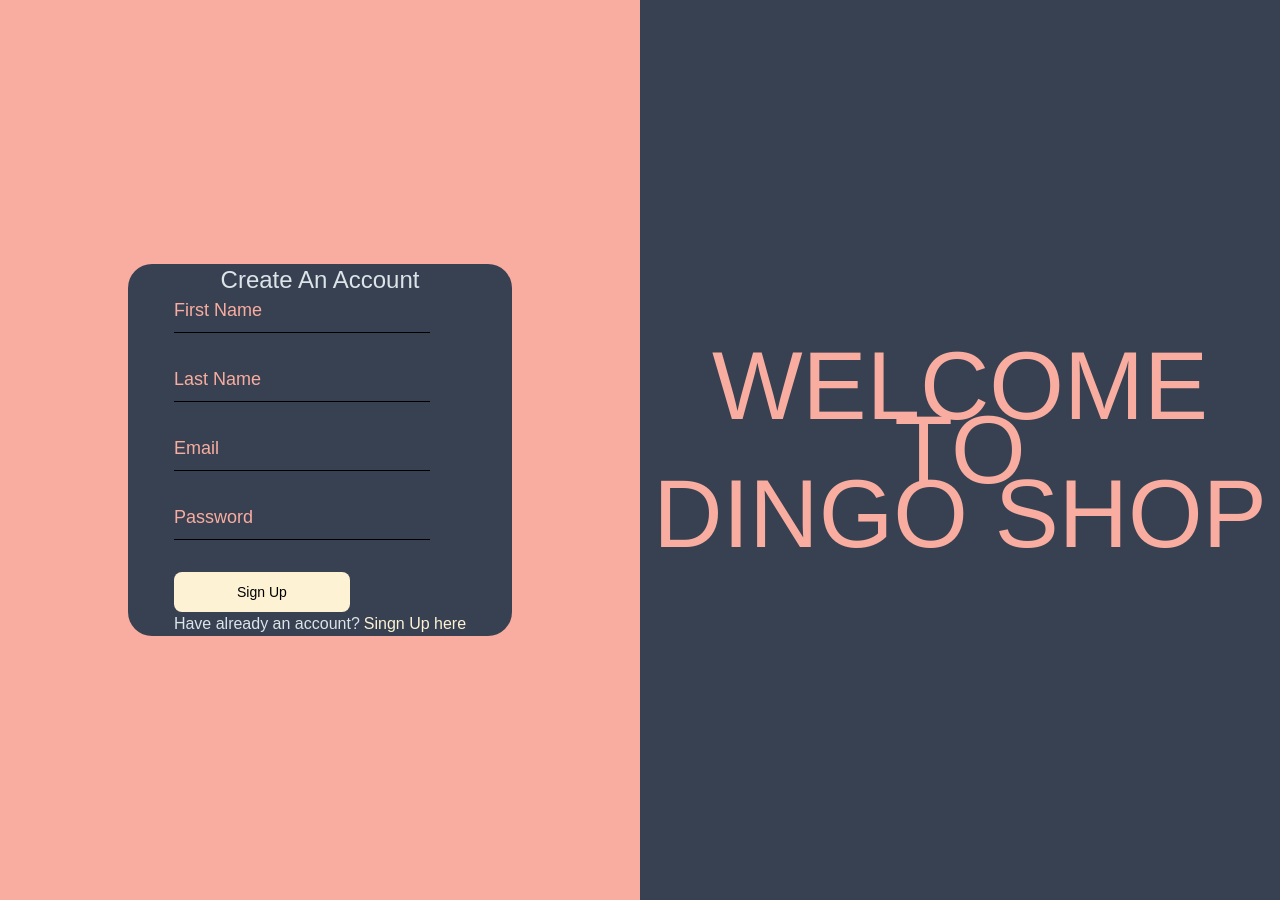
Test: testing functionality of sign up › invalid email address error message
Type "email" into the field with test id "email-input". click: [302, 454]
box: [174,438,430,471]
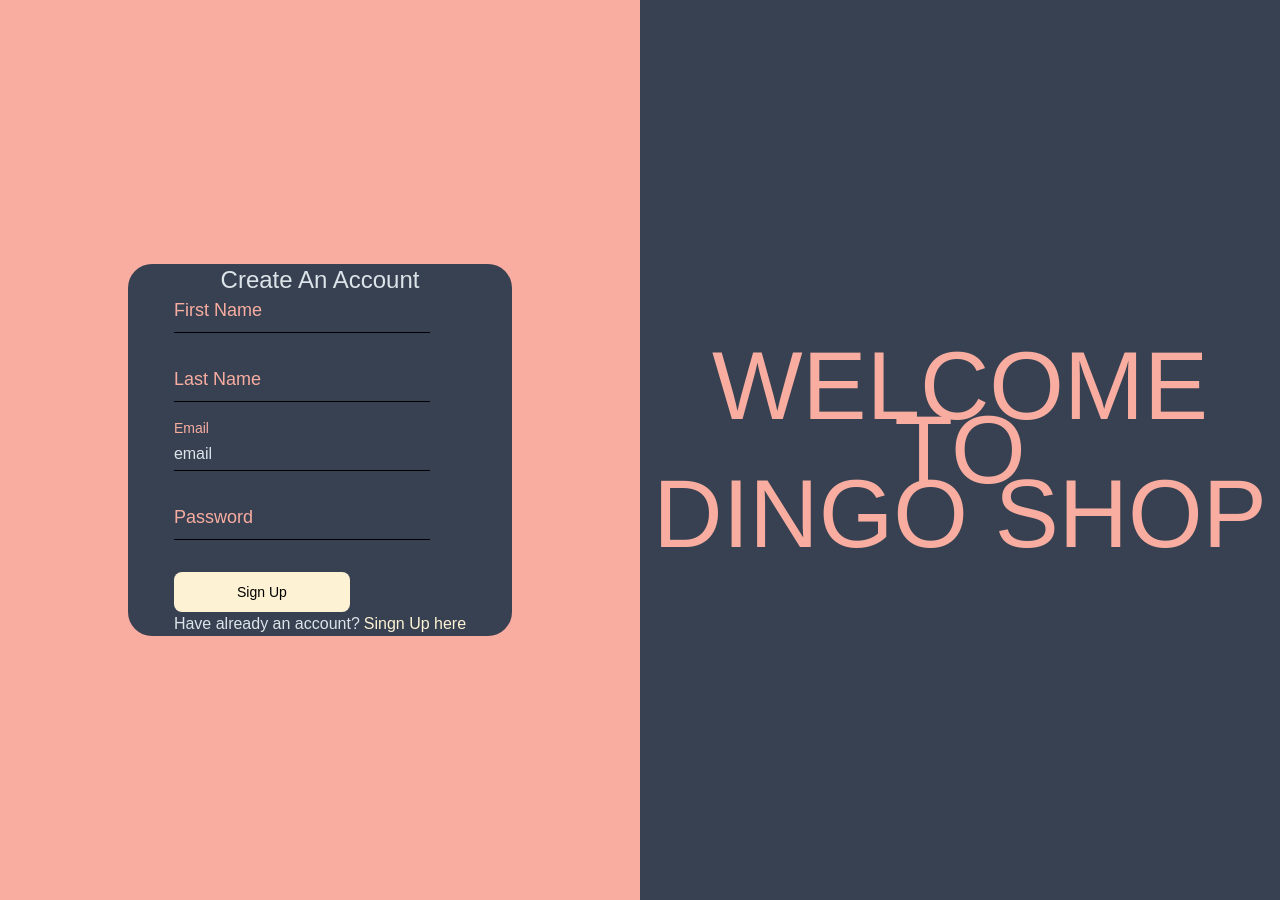
Click the button with test id "submit-button". click: [262, 592]
box: [174,572,350,612]
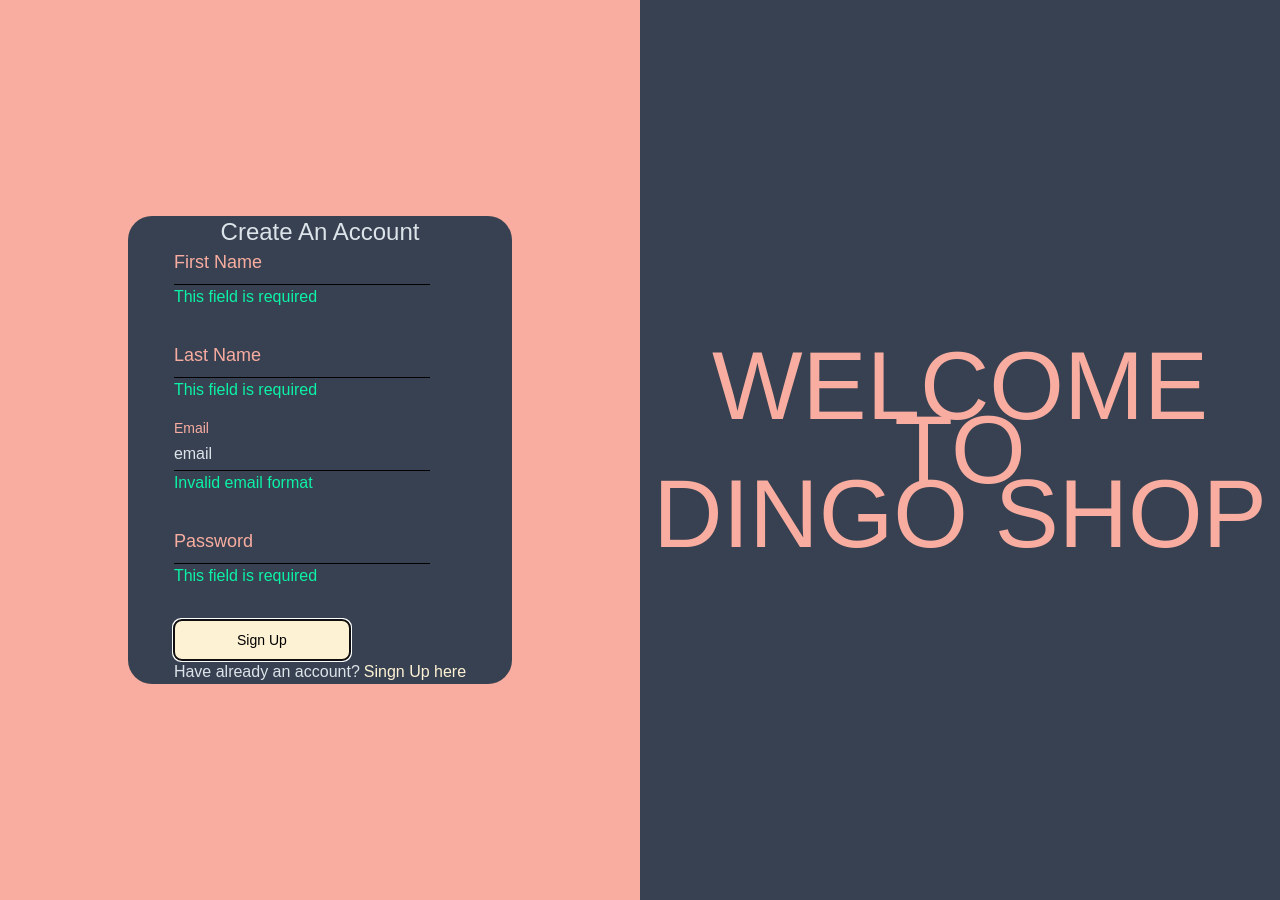
Expected: the text "Invalid email format" is shown, [174,474,313,491]
